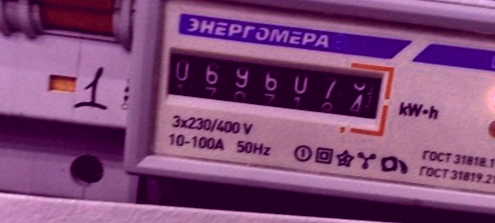0: (171, 56, 191, 81), (291, 68, 309, 95)
4: (346, 90, 364, 116)
6: (201, 59, 221, 85), (261, 65, 281, 91)
7: (320, 74, 338, 101)
9: (231, 63, 250, 89)
screen: (149, 31, 398, 134)
